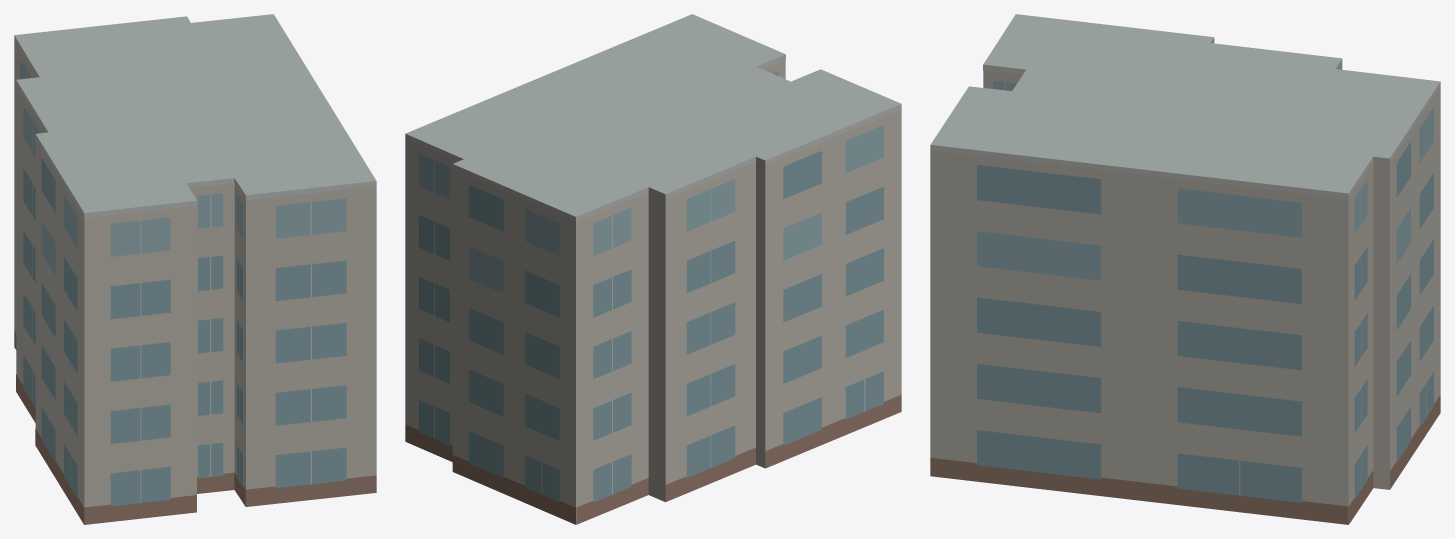
Rendered from survey-upis-32710761.glb.
3 renders of one model, left to right at view 1: azimuth 30°, elevation 25°; view 2: azimuth 150°, elevation 25°; view 3: azimuth 270°, elevation 25°, orthographic. The views are drawn at different scales.
Parts seen in each view (by area): view 1: survey-upis-32710761.tmp; view 2: survey-upis-32710761.tmp; view 3: survey-upis-32710761.tmp.
Boxes of the visible parts, x1,y1,x2,y2 form: survey-upis-32710761.tmp: (14,14,376,524); survey-upis-32710761.tmp: (405,14,901,524); survey-upis-32710761.tmp: (930,14,1440,524).
Bounding box in the file's own units: 16.74 × 14.4 × 20.1.
